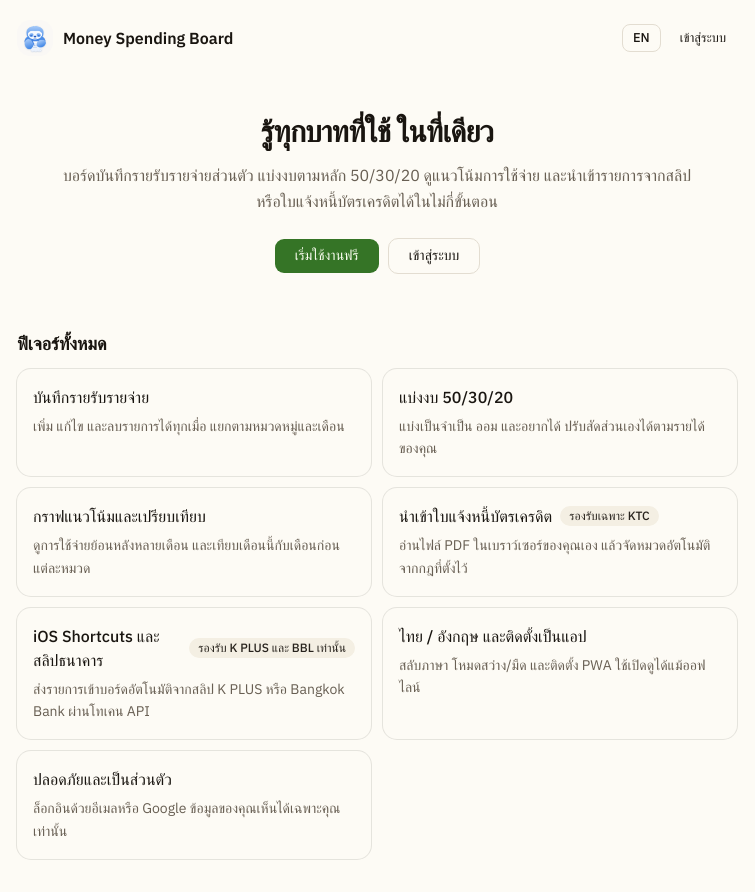
Test: Index page › Render method › should return to the landing page after signing out
Click the button "เข้าสู่ระบบ" in the row of "Money Spending Board". click: x=703, y=38
box: left=669, top=24, right=737, bottom=52
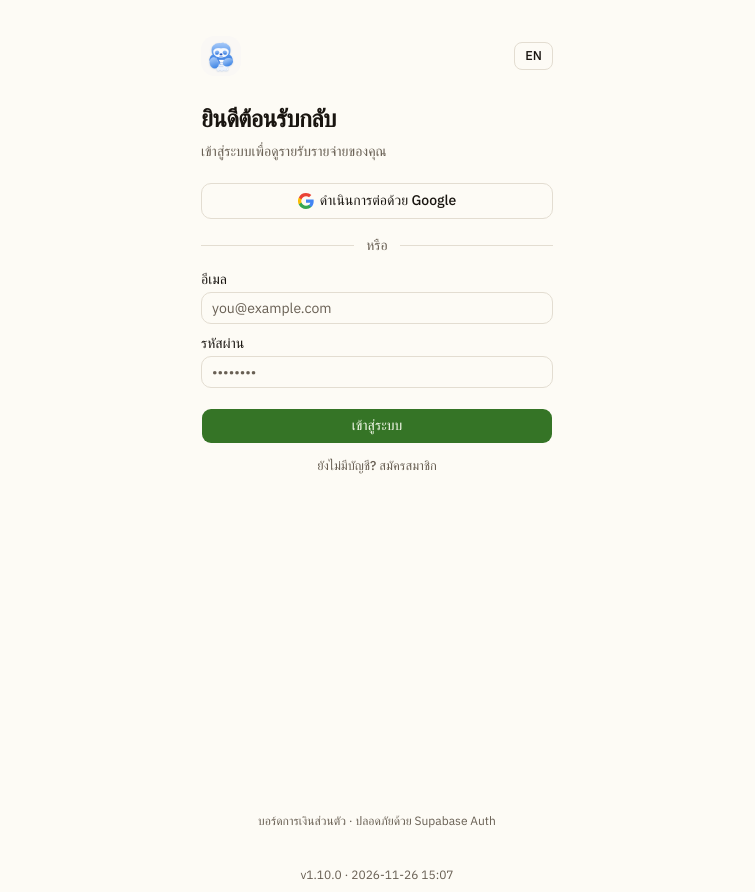
Type "demo@example.com" into the field labelled "อีเมล". click: x=377, y=308
box: left=201, top=292, right=553, bottom=324
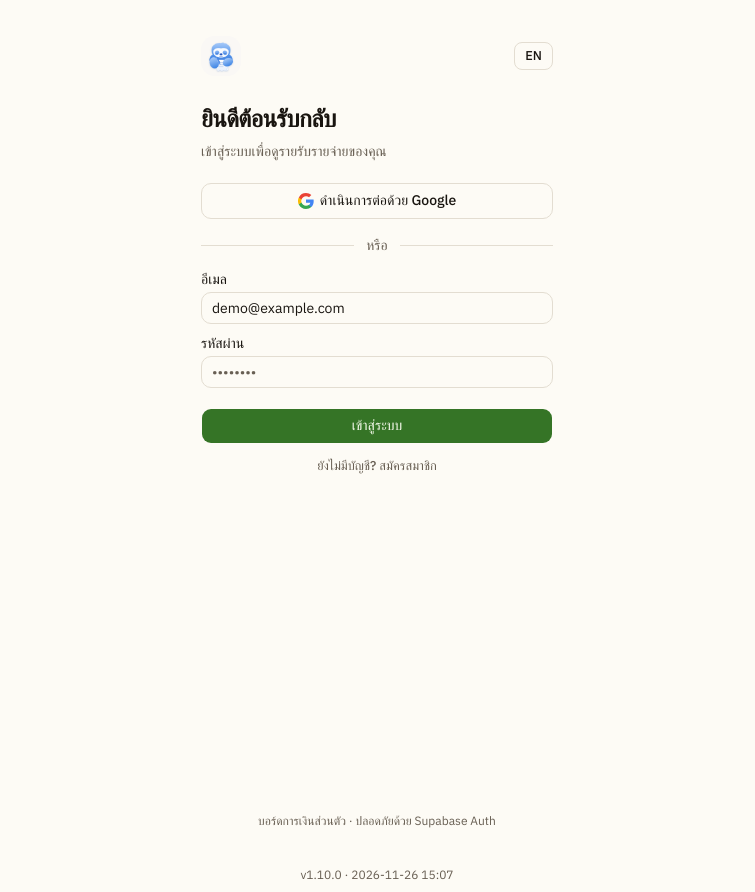
Type "password123" into the password field labelled "รหัสผ่าน". click: x=377, y=372
box: left=201, top=356, right=553, bottom=388
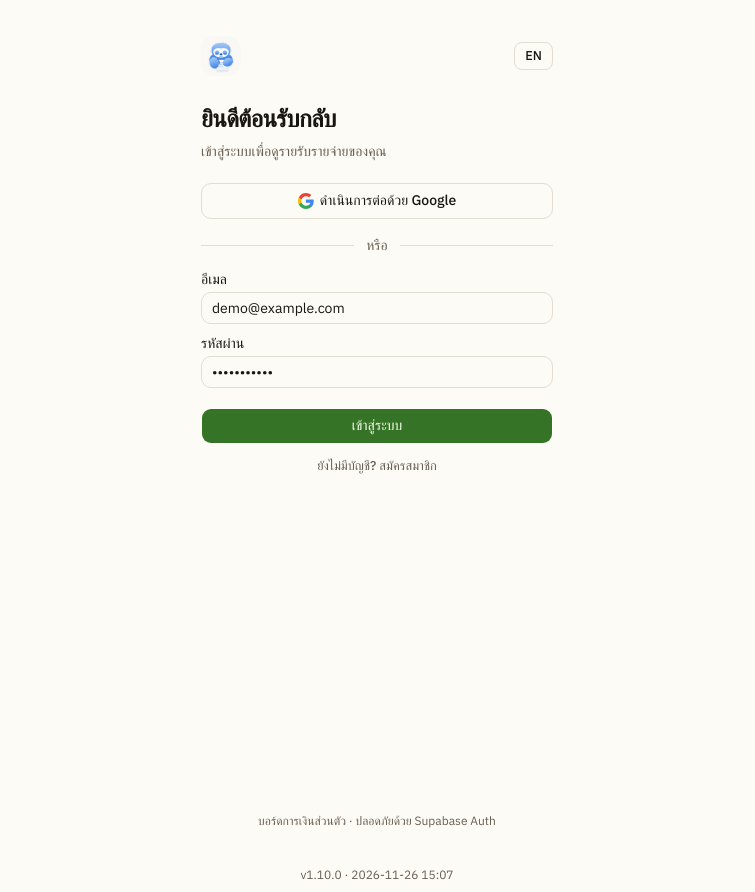
Click the button "เข้าสู่ระบบ". click: x=377, y=426
box: left=201, top=408, right=553, bottom=444
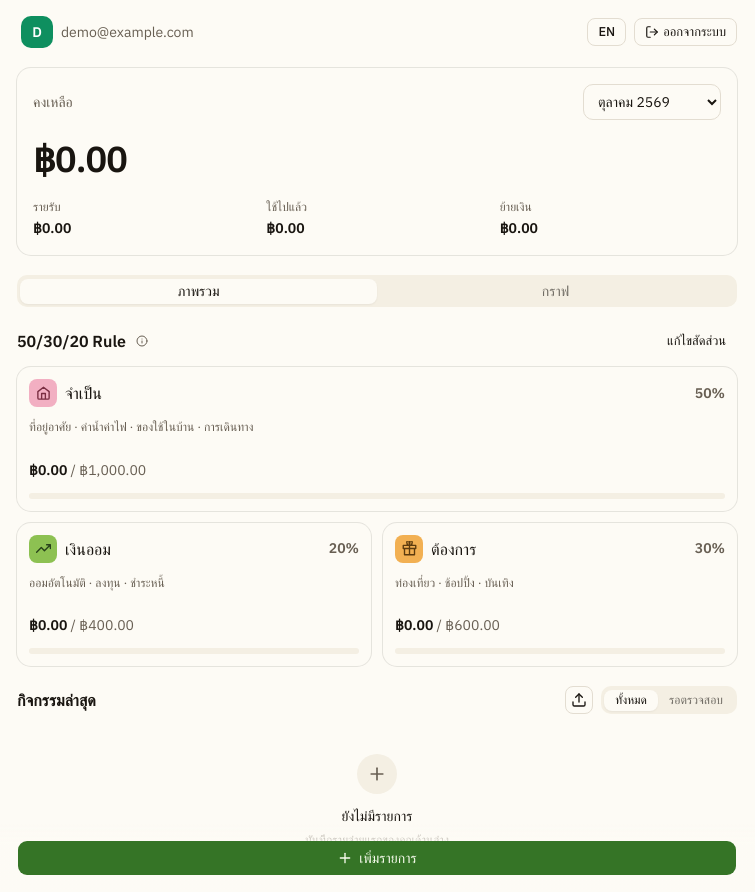
Result: the heading "กิจกรรมล่าสุด" is shown at left=17, top=688, right=96, bottom=712
Click the button "ออกจากระบบ". click: x=686, y=32
box: left=634, top=18, right=737, bottom=46
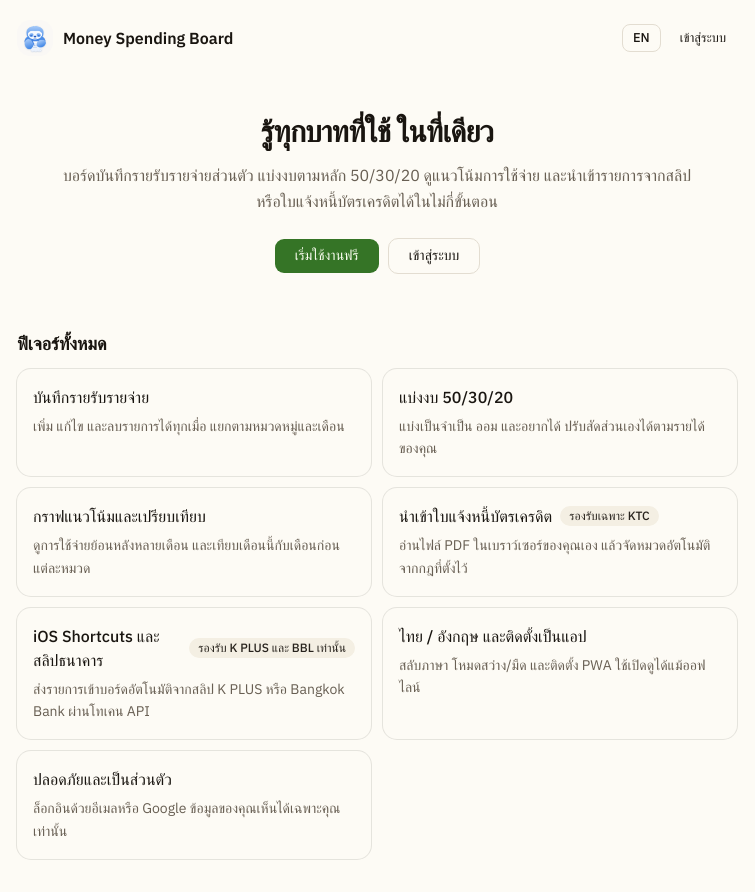
Result: the heading "รู้ทุกบาทที่ใช้ ในที่เดียว" is shown at left=261, top=111, right=493, bottom=150
